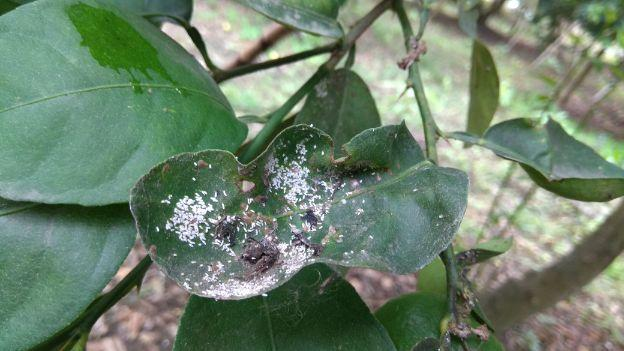Myzus persicae: (183, 232, 320, 298), (266, 139, 342, 230), (166, 192, 221, 248), (240, 236, 280, 279)
